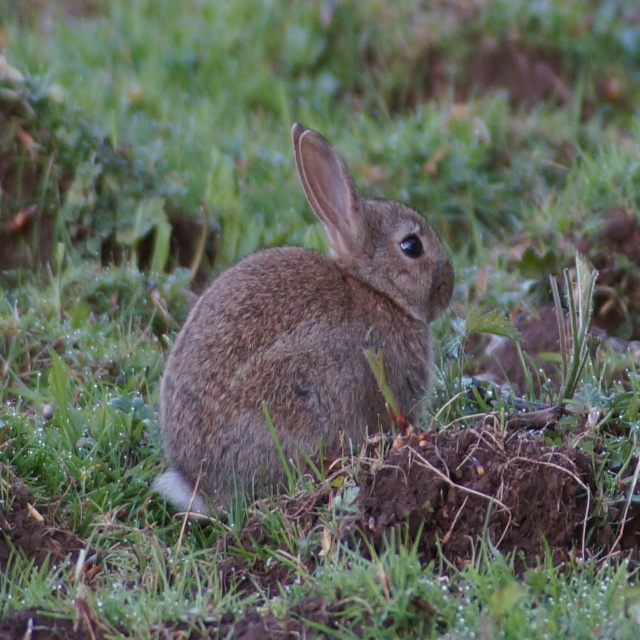Rabbit: (152, 122, 475, 522)
